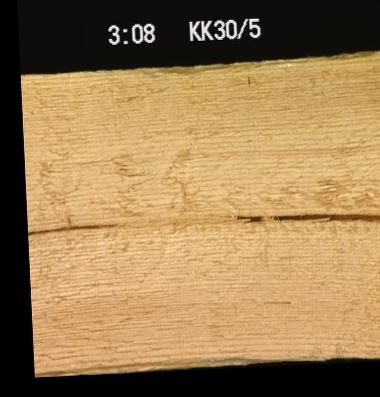wave: (71, 352, 266, 369)
